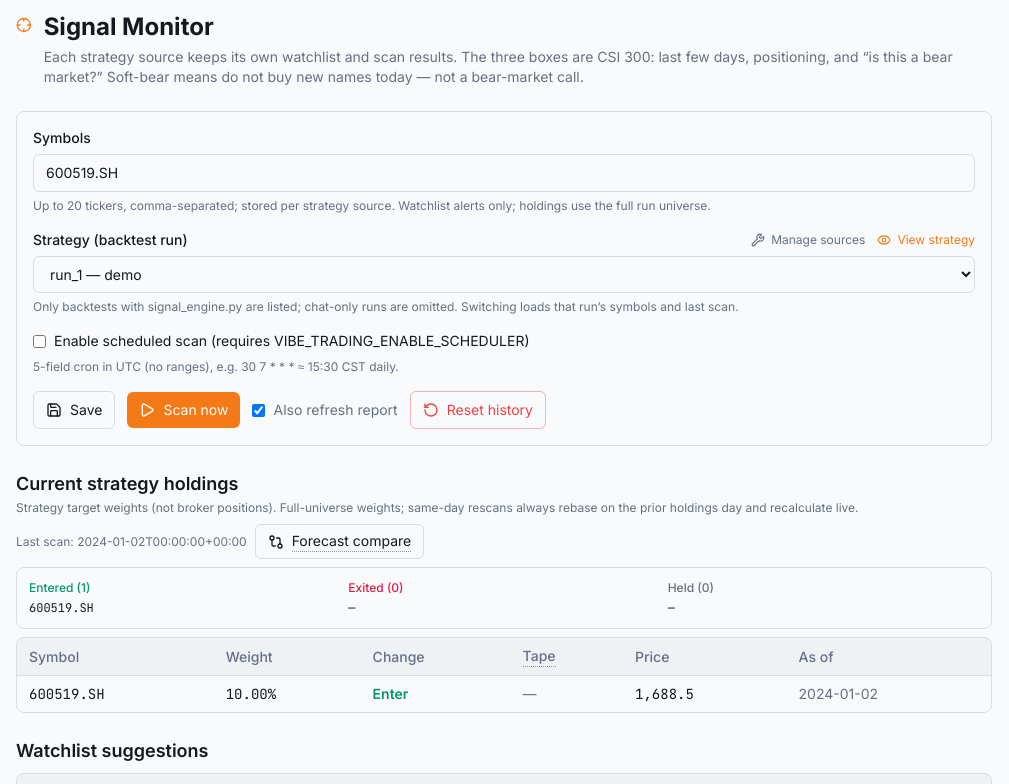
Test: Monitor page › switching strategy loads that board's symbols and suggestions
Select "run_2 — other" in the dropdown: (504, 274) [33,256,975,293]
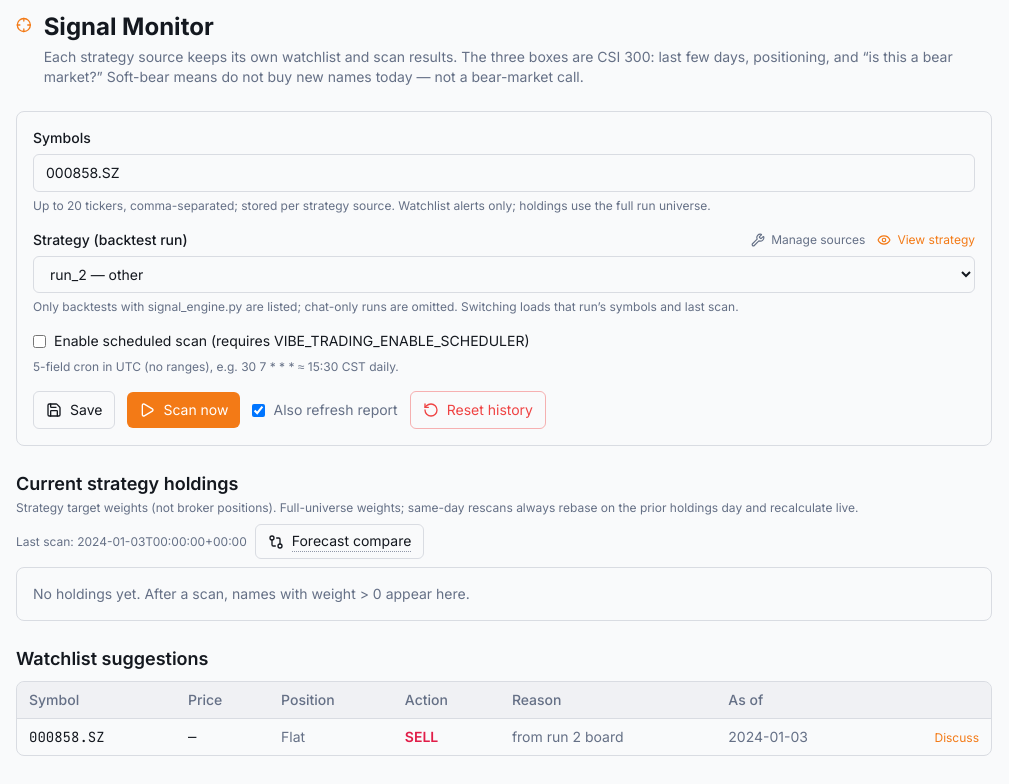
Expected: the field showing "000858.SZ" is shown, [33,154,975,192]
Expected: the text "from run 2 board" is shown, [500,718,716,755]
